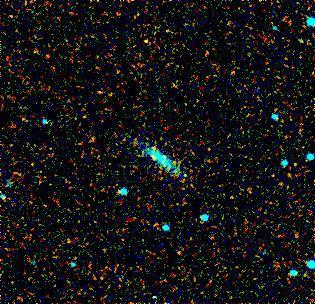star: (126, 25, 156, 55)
